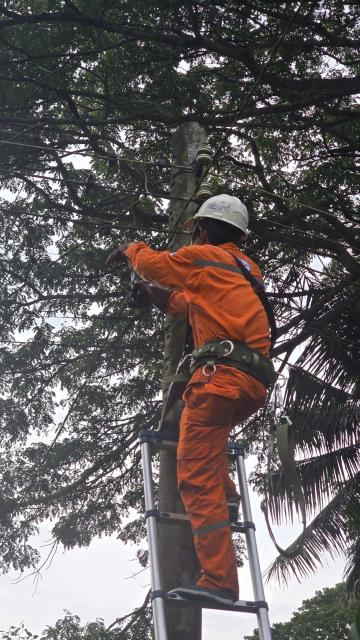gloves: (119, 270, 185, 314), (101, 243, 135, 269)
harness: (171, 315, 278, 394)
helmet: (173, 186, 270, 246)
shoes: (158, 575, 244, 612), (218, 485, 245, 524)
